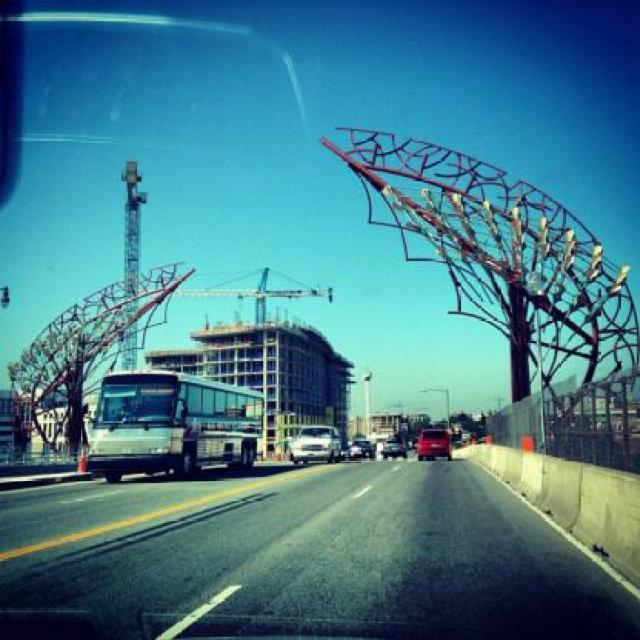truck: (292, 424, 341, 462), (418, 428, 456, 458), (350, 437, 373, 458), (382, 437, 404, 455)
